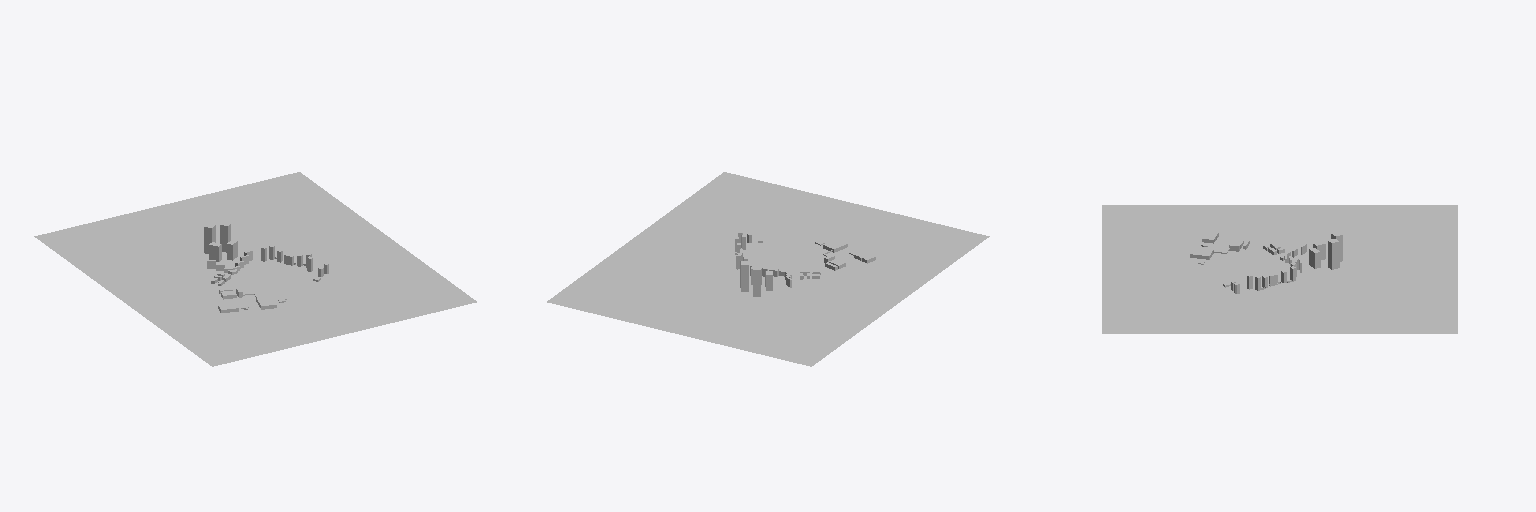
File: 测试_清理版.obj
3 views of the same model, side by side, from view 1: azimuth 30°, elevation 25°; view 2: azimuth 150°, elevation 25°; view 3: azimuth 270°, elevation 25° (orthographic).
Visible parts, largest first — view 1: Mesh11 Group11 Model; view 2: Mesh11 Group11 Model; view 3: Mesh11 Group11 Model.
Boxes of the visible parts, <box> form: Mesh11 Group11 Model: <box>34,172,476,366</box>; Mesh11 Group11 Model: <box>547,172,989,366</box>; Mesh11 Group11 Model: <box>1102,205,1457,333</box>.
Bounding box in the file's own units: 1872 × 180 × 2176.